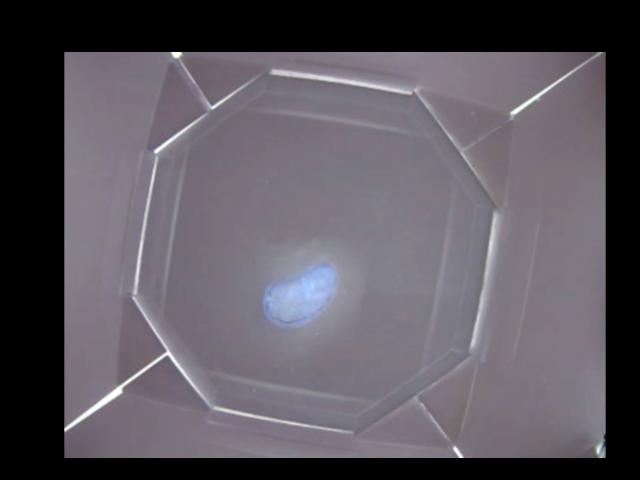Pebble: (258, 263, 334, 327)
